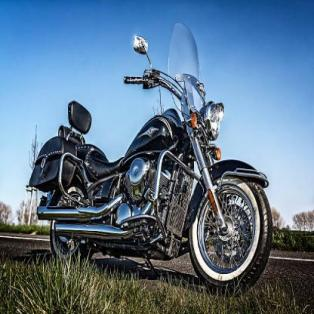Motocicleta: (29, 25, 275, 299)
